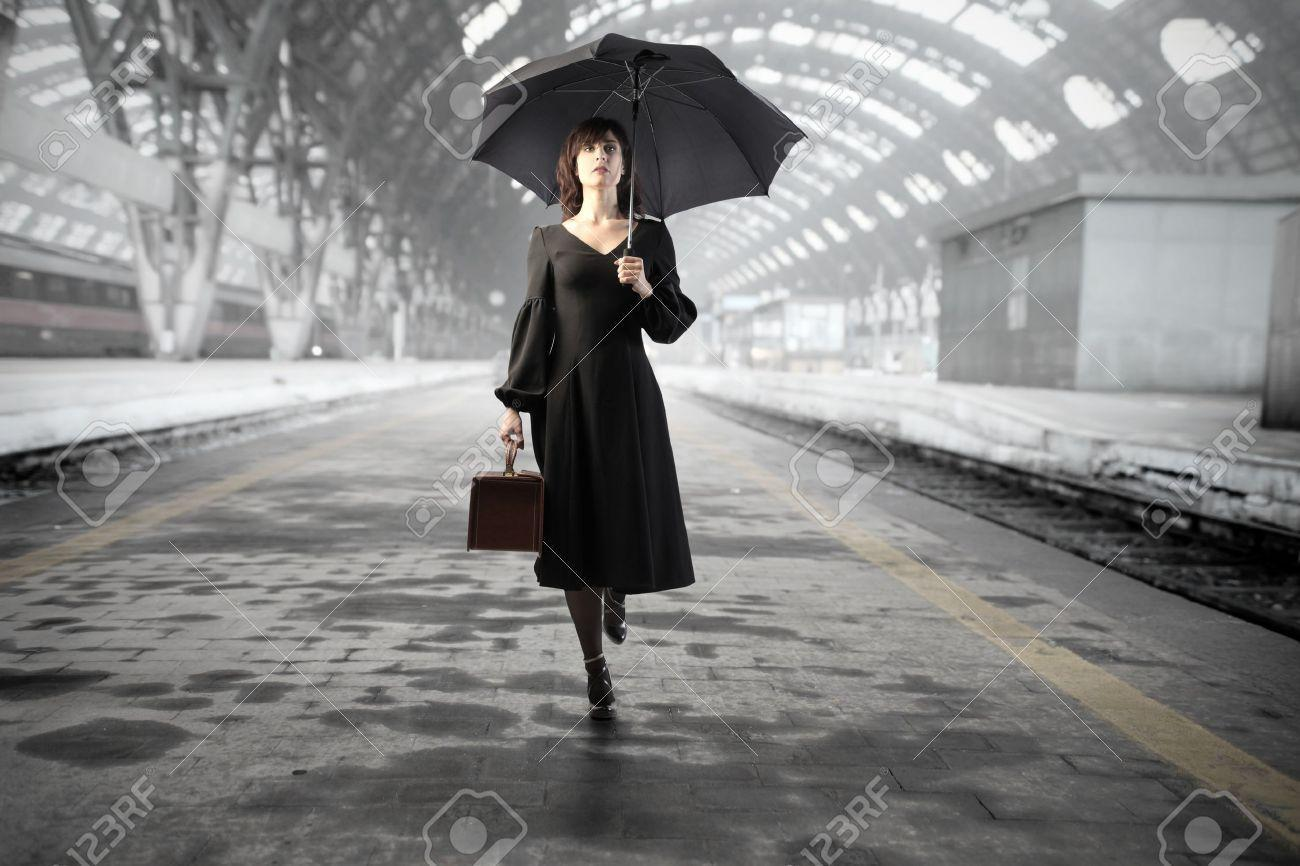Umbrella: (463, 30, 807, 290)
